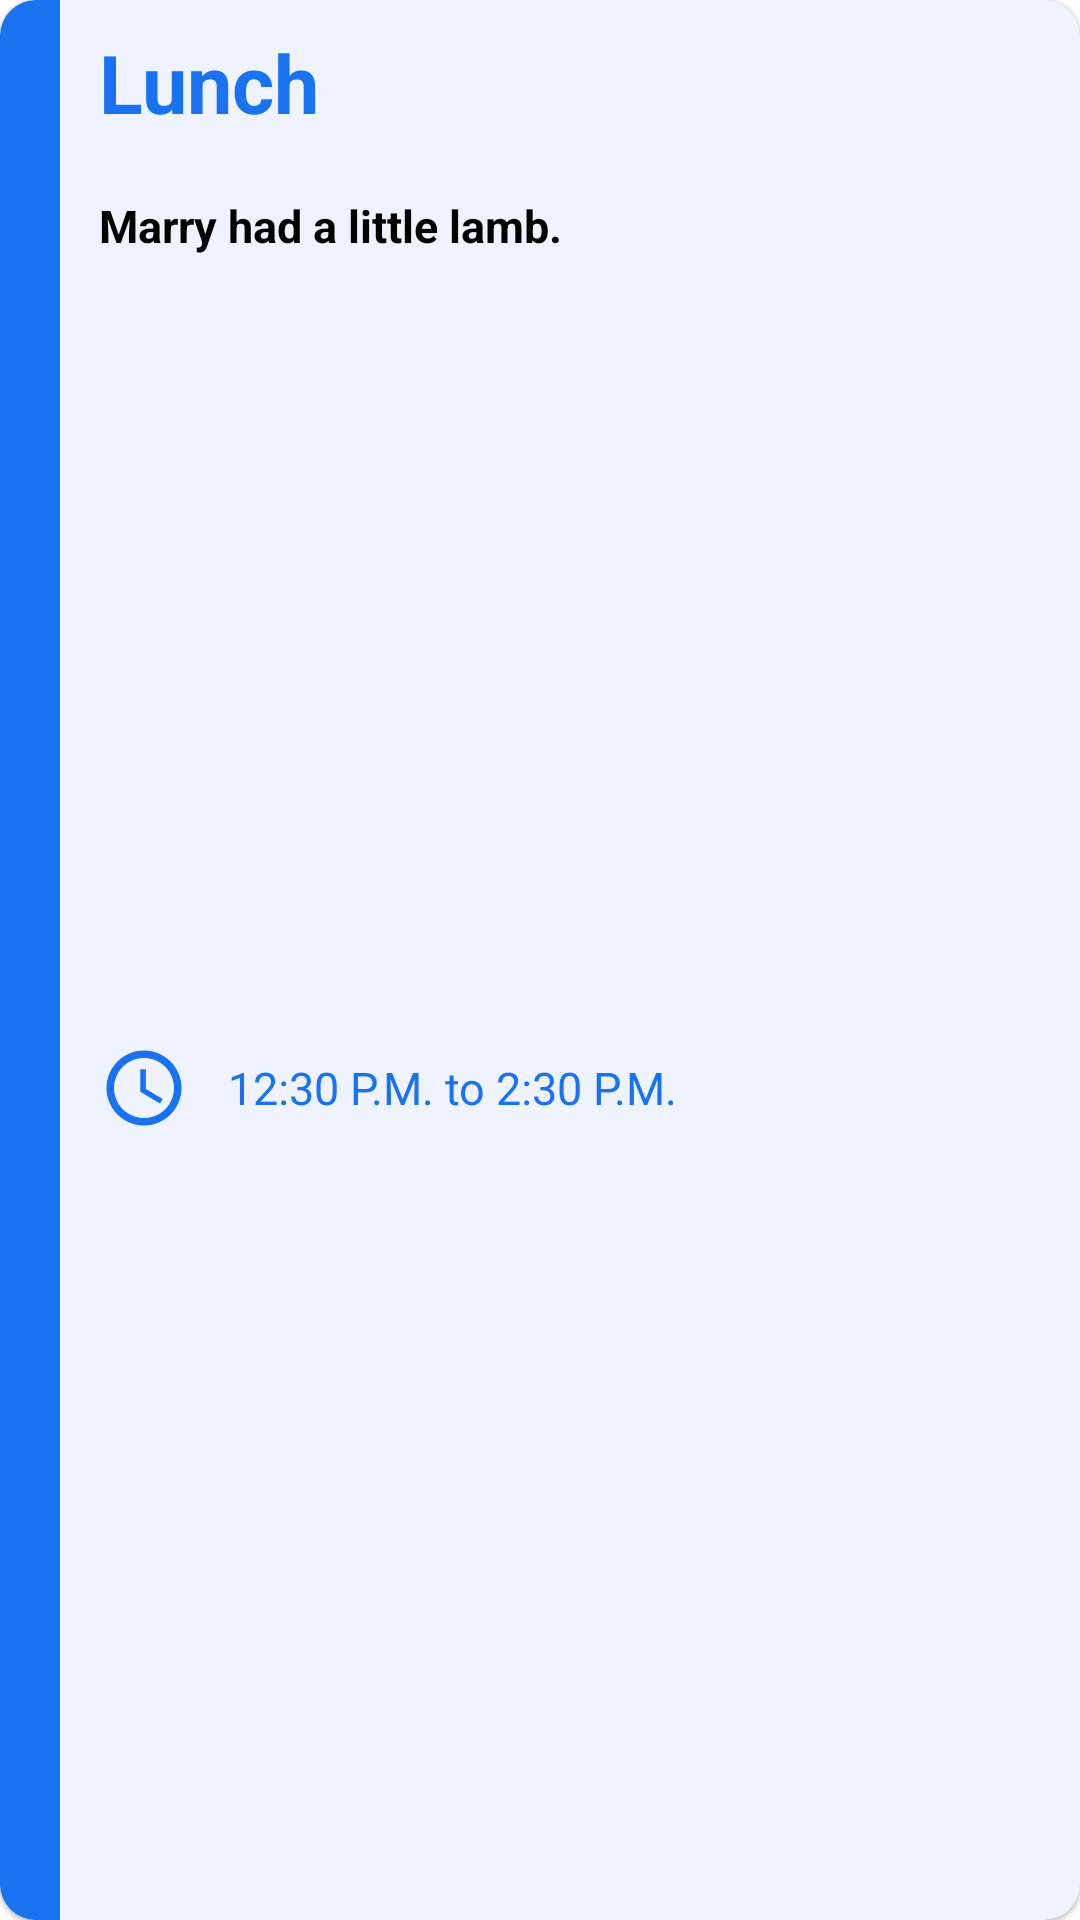

Named icons in this screenshot (1080w x 1920h) and their centers, (x=x, y=y):
access time: (x=144, y=1088)
